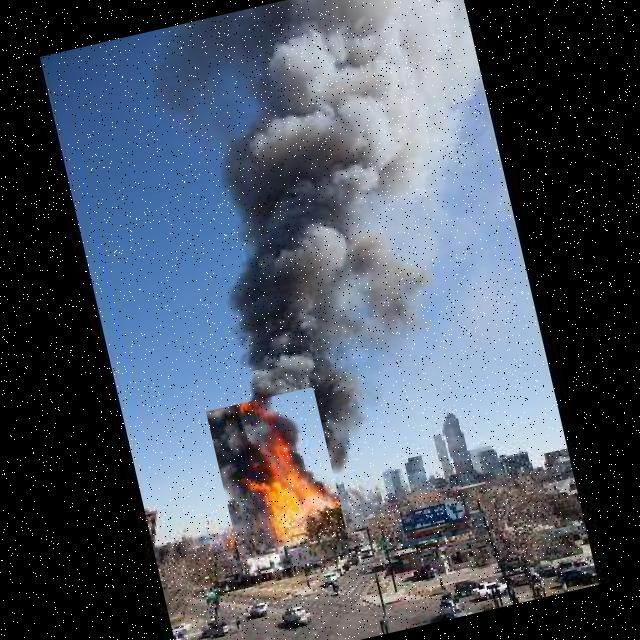fire: (206, 387, 352, 578)
